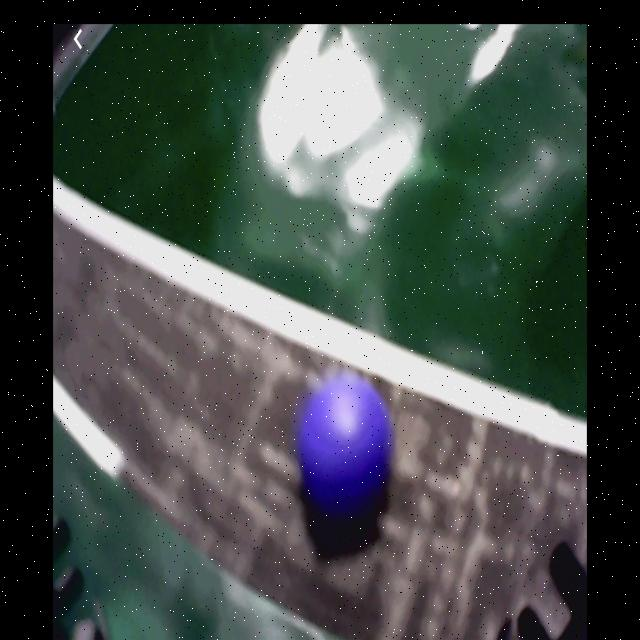ball: (300, 374, 394, 514)
